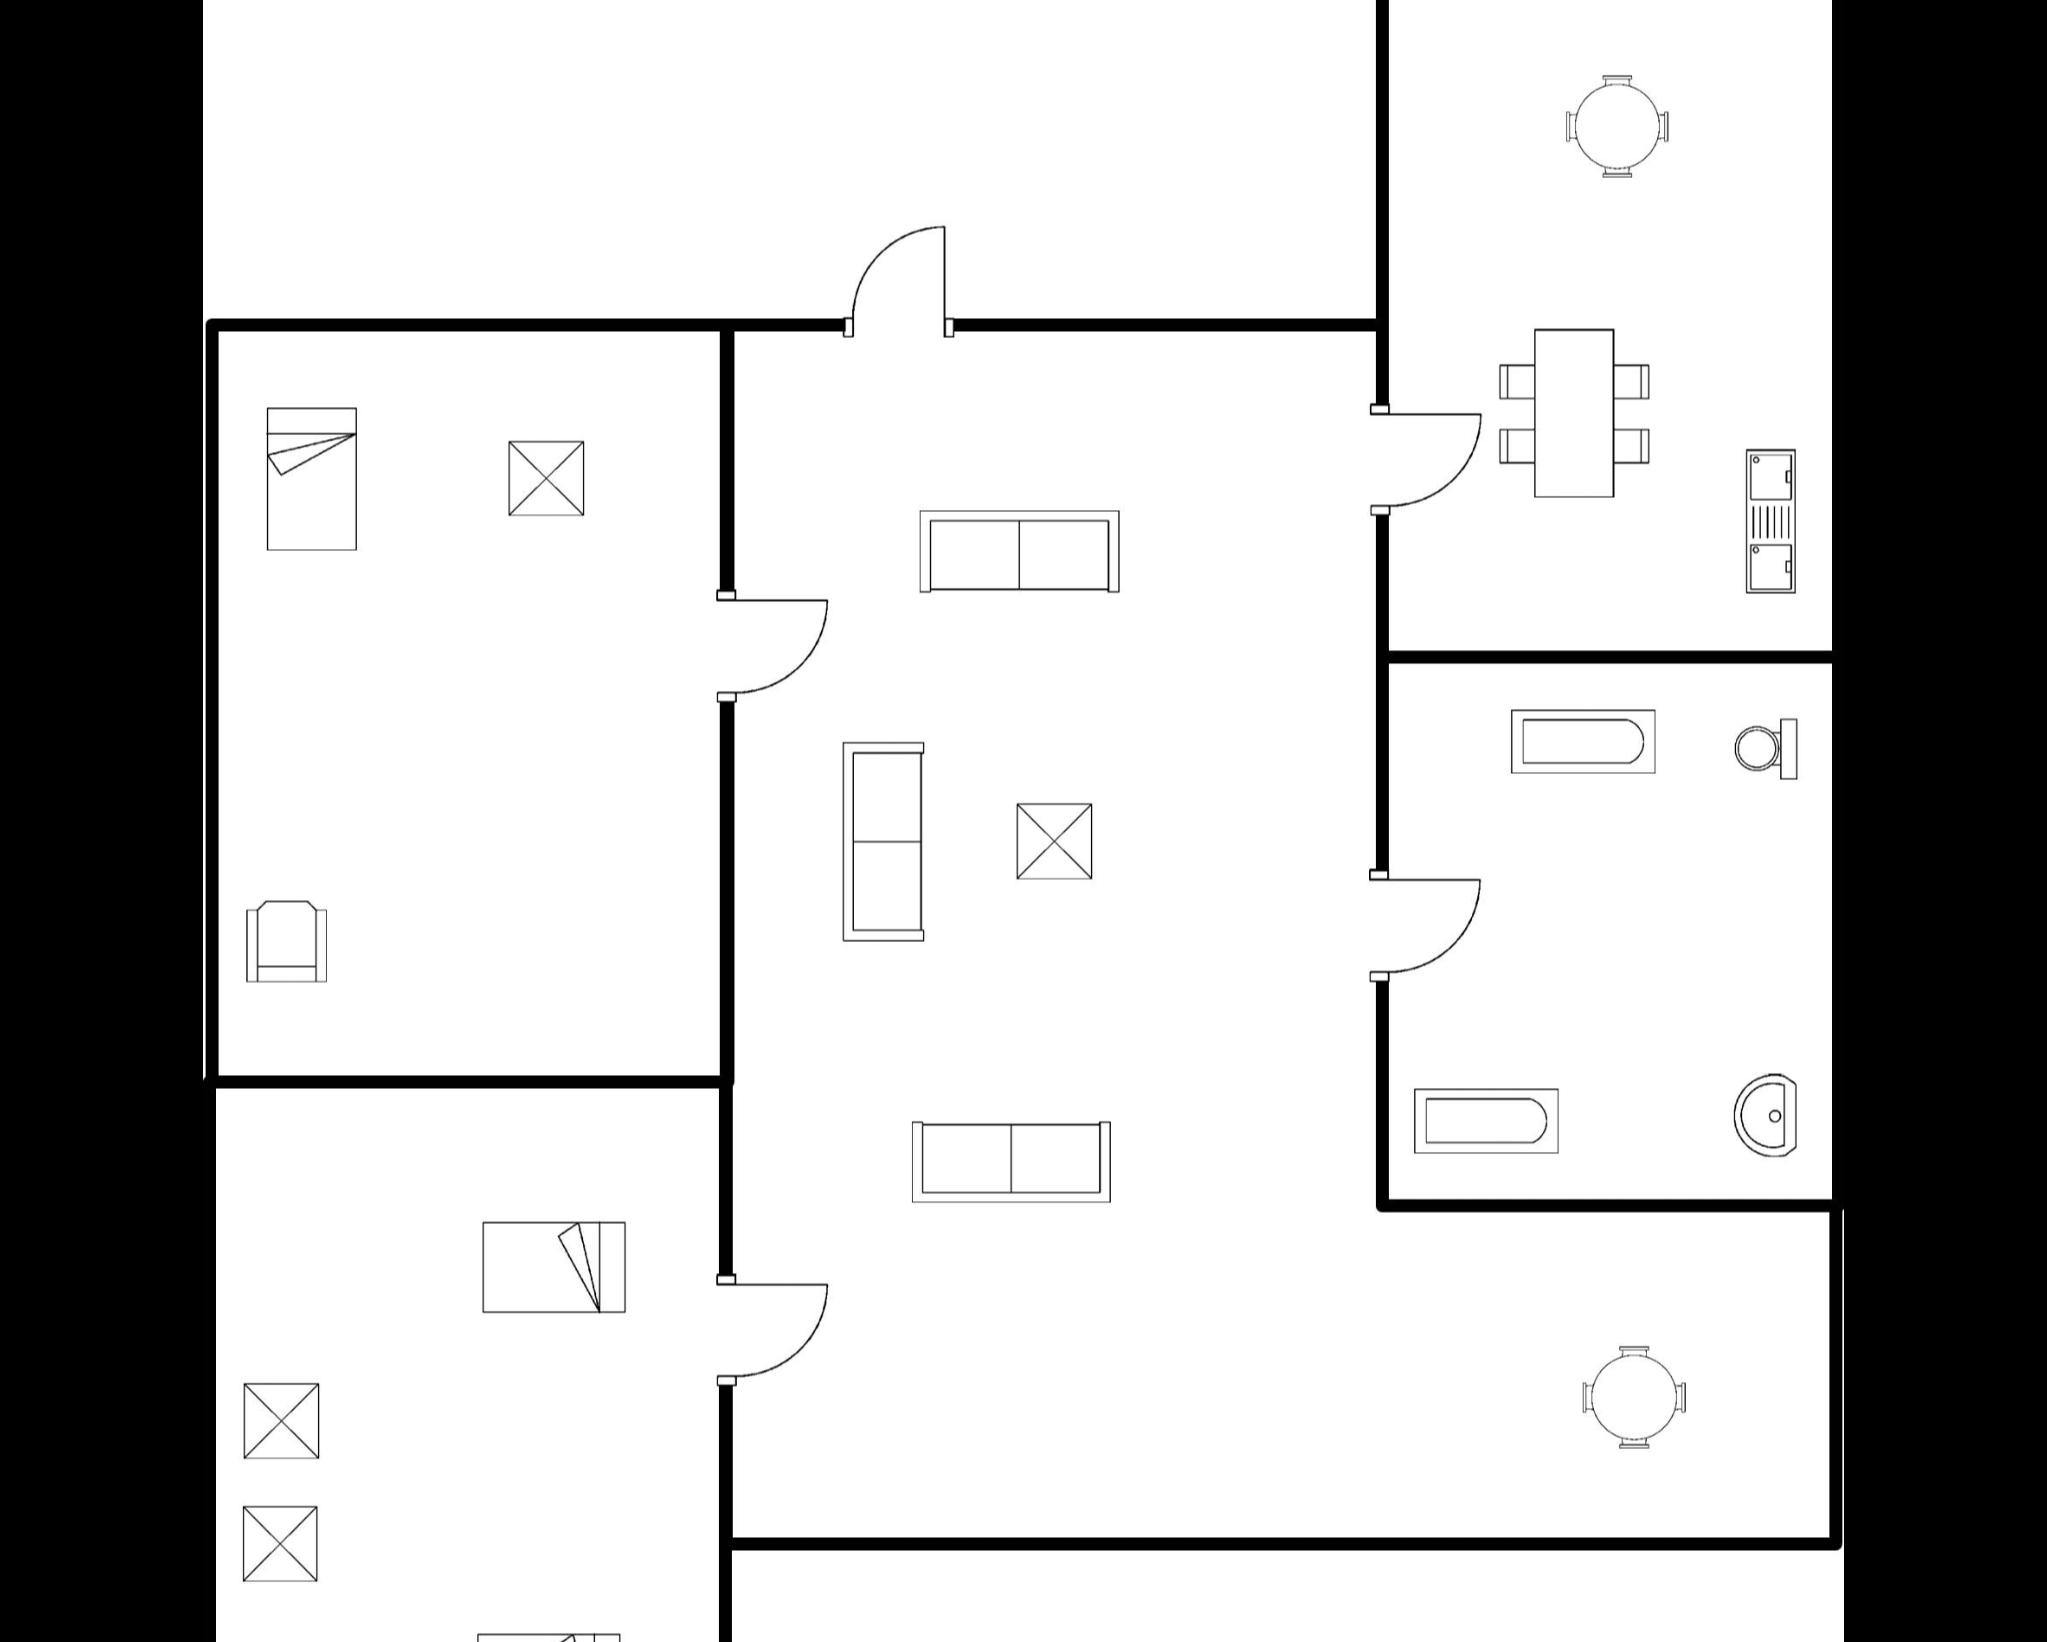sink: (1734, 441, 1809, 605)
